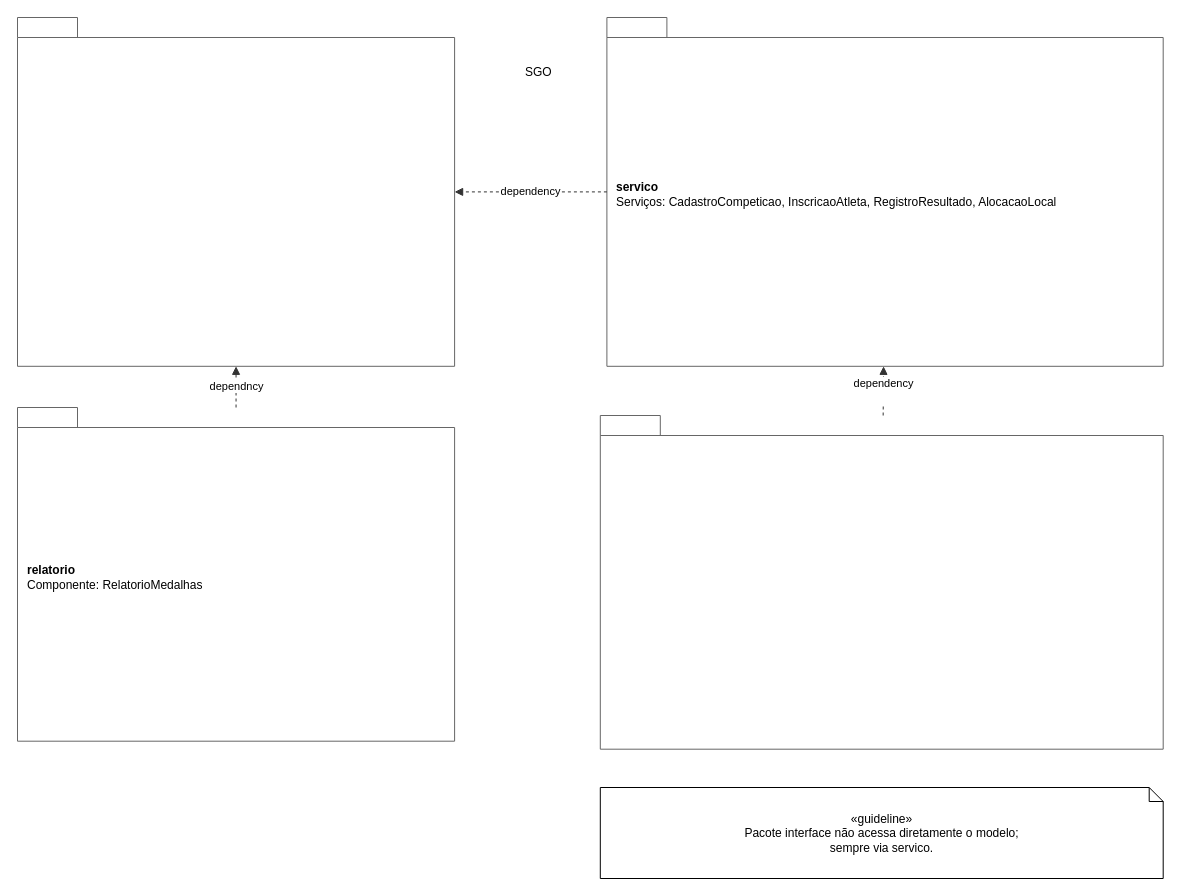
This 1181x896 diagram has some shape labels left out. Here are the shapes that lost their labels. From the top down, the centre of each, then its label:
At [235,191]: "modelo Classes: Atleta, Competicao, Local, Resultado, Pais".
At [881,581]: "interface UI: Telas e APIs públicas do SGO".
